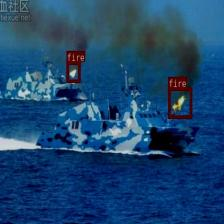fire: (168, 87, 191, 118), (66, 61, 80, 82)
